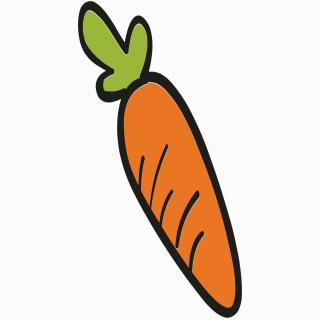Wortel: (72, 5, 258, 319)
